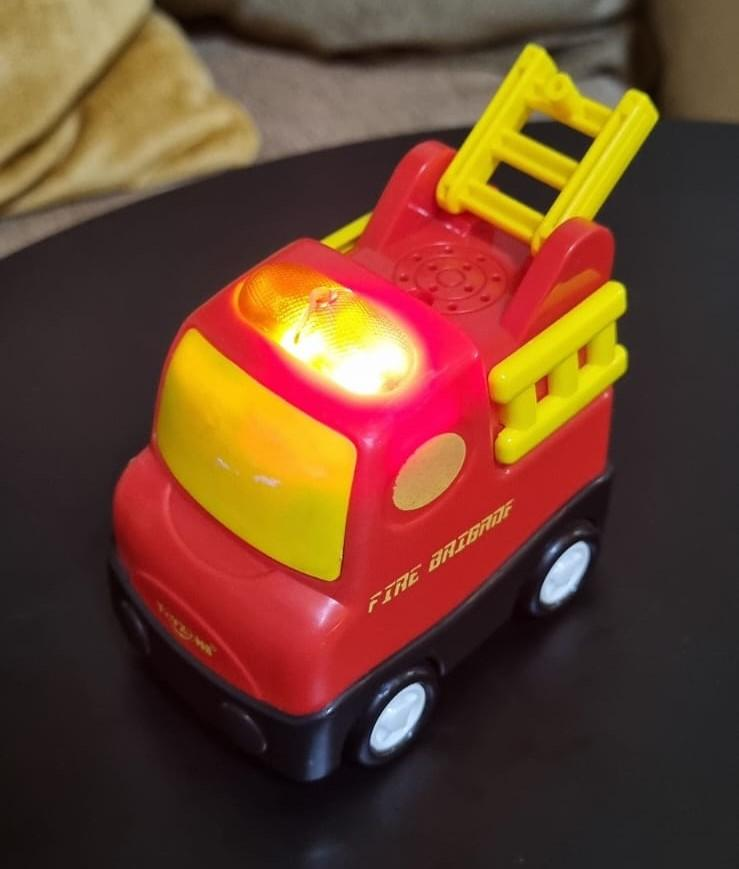firetruck_on: (111, 44, 643, 782)
